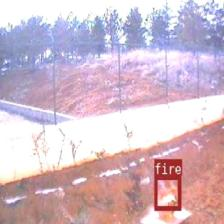fire: (153, 174, 181, 210)
